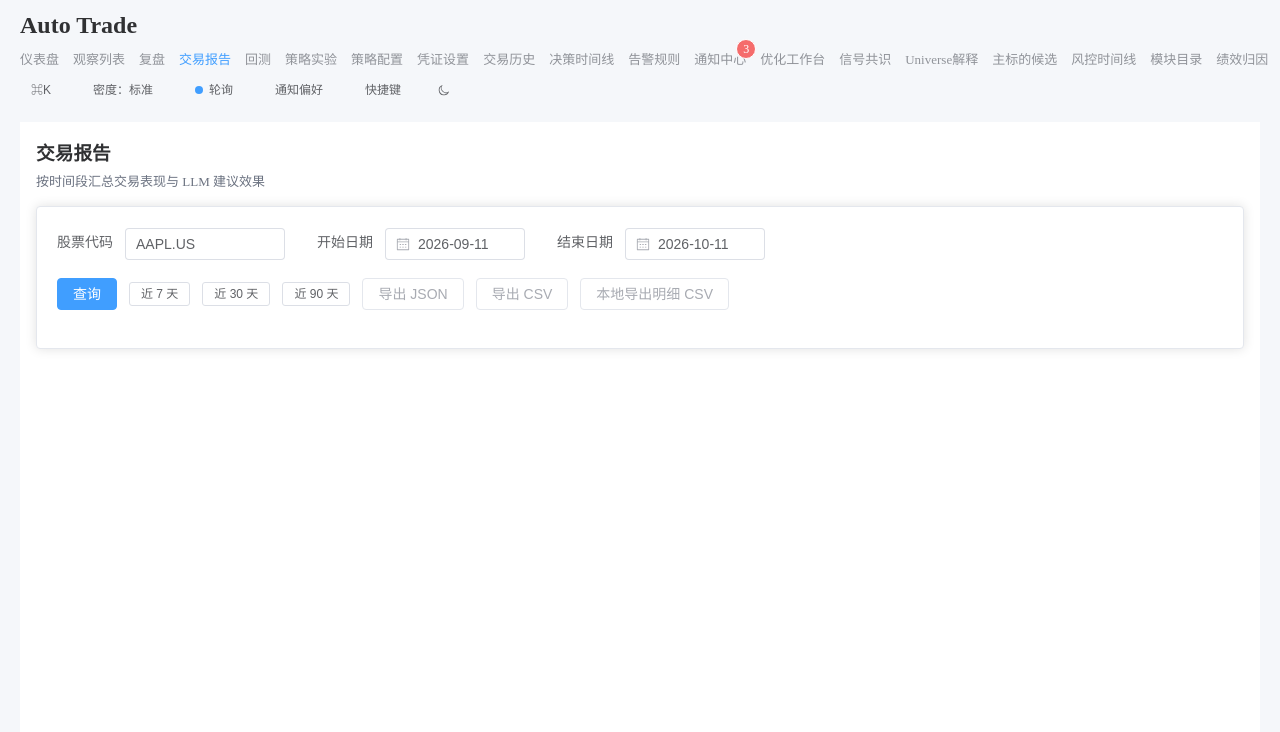
Test: Statistics quality warnings › shows unresolved issue and omitted-day counts as an error
Click the button with test id "reports-search". click: click(87, 294)
box: 57,278 -> 117,310
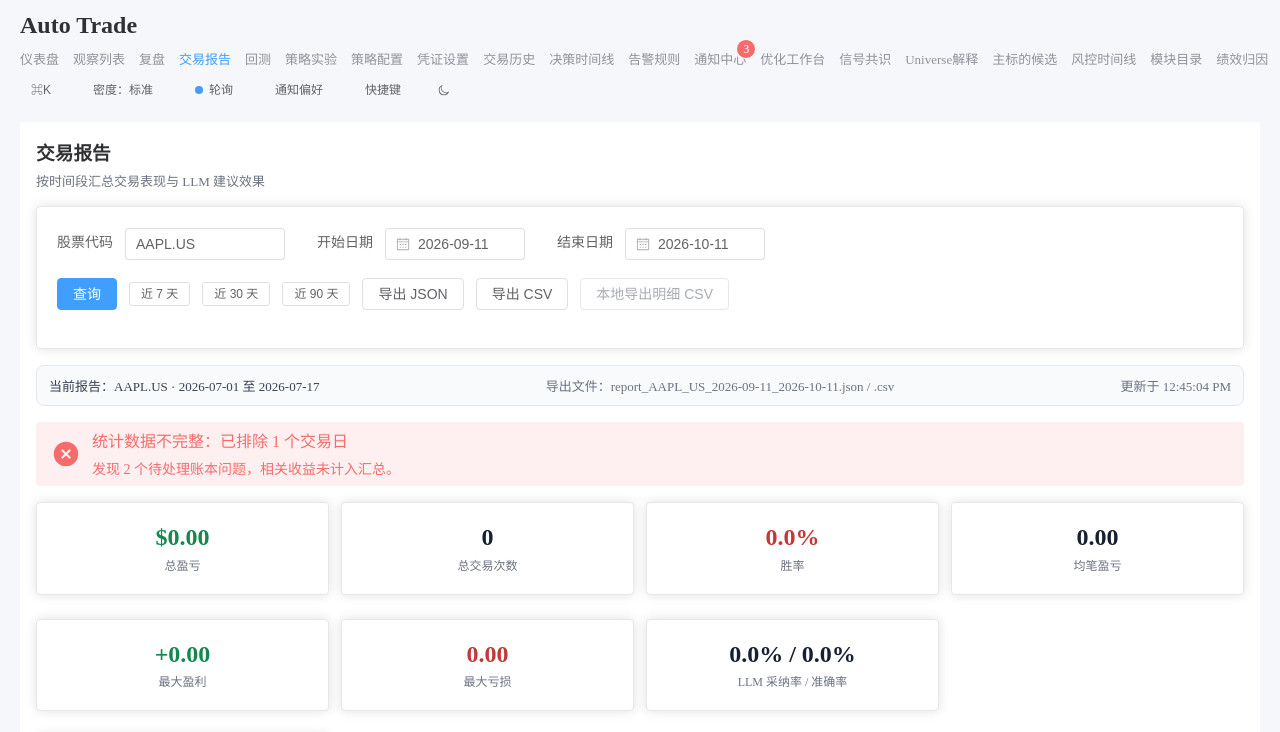
expect the text with test id "statistics-quality-alert" shows "已排除 1 个交易日": met, box 92,433 -> 348,450
expect the text with test id "statistics-quality-alert" shows "发现 2 个待处理账本问题": met, box 92,462 -> 400,477
